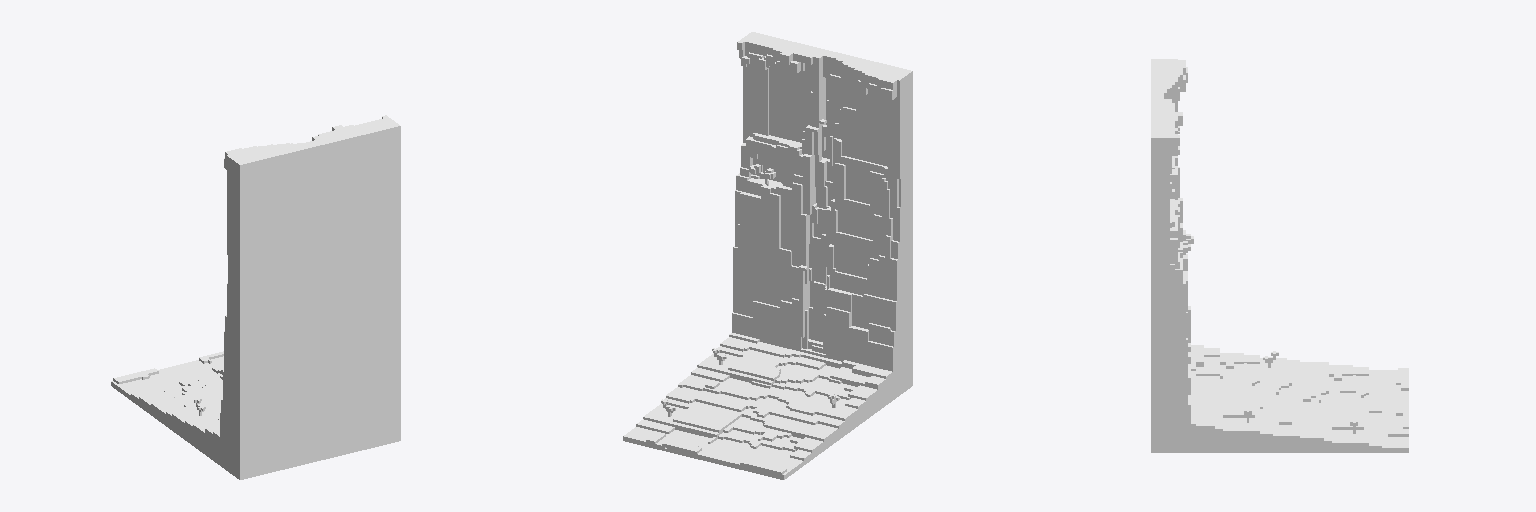
Rendered from river_s_01.obj.
The picture shows the model from 3 angles: view 1: azimuth 30°, elevation 25°; view 2: azimuth 150°, elevation 25°; view 3: azimuth 270°, elevation 25°; orthographic projection.
Visible parts, largest first — view 1: object 1; view 2: object 1; view 3: object 1.
Part boxes in pixels (x1,y1,x2,y2): object 1: (111, 115, 400, 479); object 1: (623, 32, 912, 479); object 1: (1151, 59, 1408, 452).
Bounding box in the file's own units: 7 × 13.1 × 9.7.